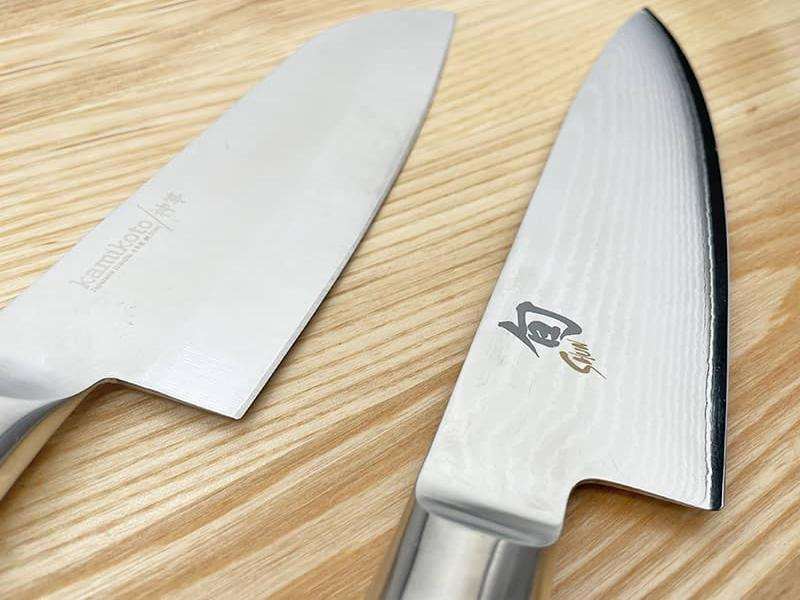KNIFE: (1, 2, 729, 600)
